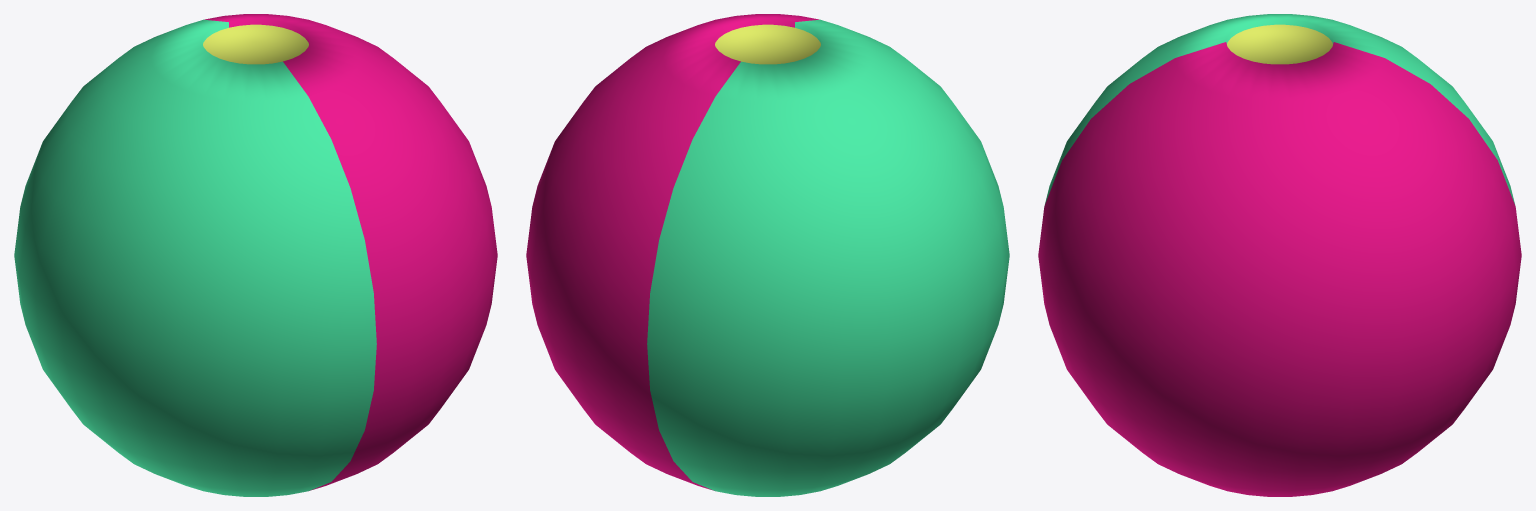
Rendered from ball.fbx.
The picture shows the model from 3 angles, left to right: view 1: azimuth 30°, elevation 25°; view 2: azimuth 150°, elevation 25°; view 3: azimuth 270°, elevation 25°; orthographic projection.
Visible parts, largest first — view 1: Sphere.001; view 2: Sphere.001; view 3: Sphere.001.
Boxes of the visible parts, bbox=[...] form: Sphere.001: bbox=[14, 14, 497, 496]; Sphere.001: bbox=[526, 14, 1009, 496]; Sphere.001: bbox=[1038, 14, 1521, 496].
Size of the model in its own units: 7.56 by 7.51 by 7.61.
